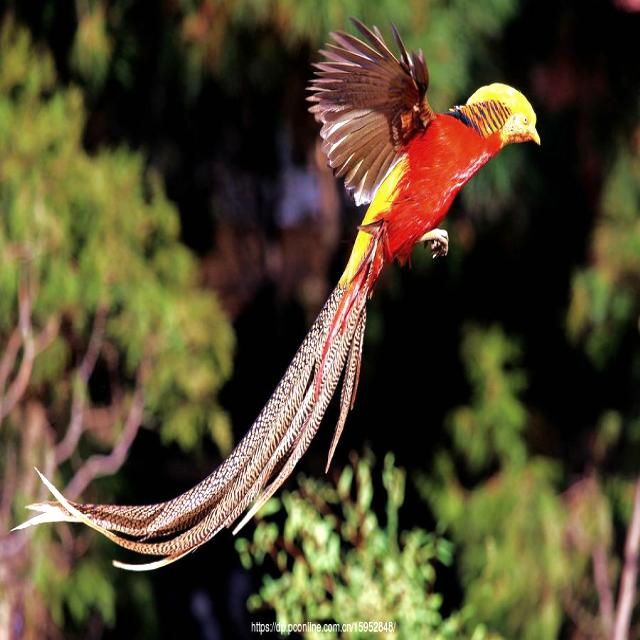Chrysolophus pictus feather: (33, 275, 366, 570)
